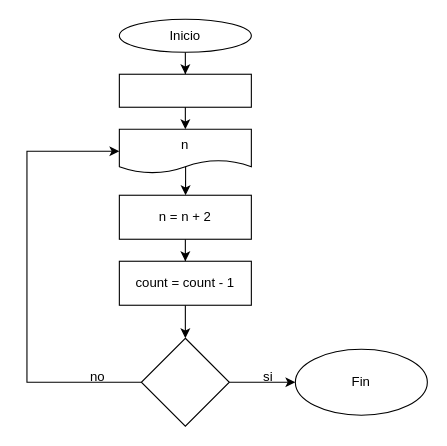
The diagram is 447 pixels wide and 446 high, and some of its shapes have lost their labels. The shapes that lost their labels are listed below. From the top down, each one's centre as x and y in pixels, then its label:
[184,90]: n = 0 count = 50
[184,381]: count = 0
